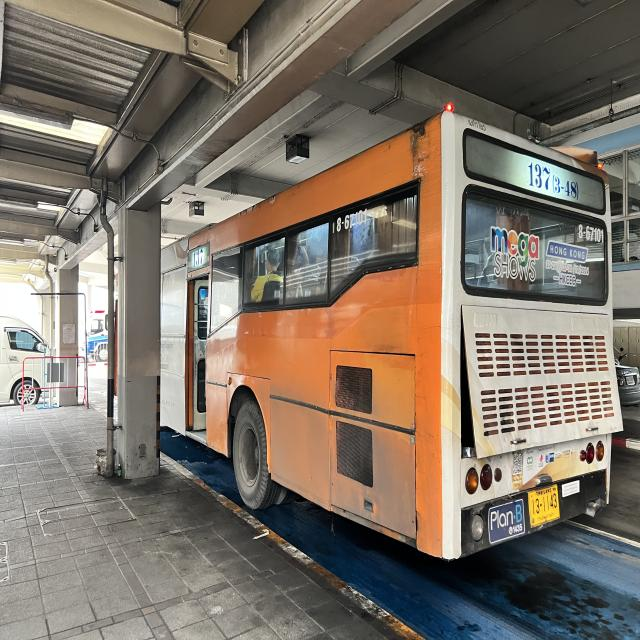BMTA-bus: (160, 109, 624, 563)
Bus-Line-Number: (524, 155, 582, 209)
